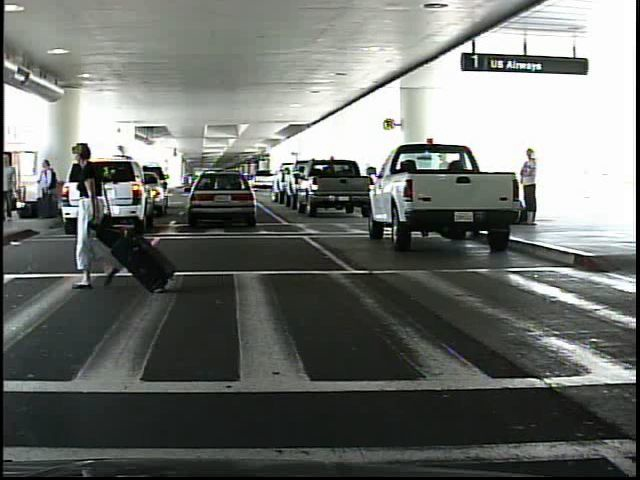person: (62, 143, 133, 292), (506, 151, 544, 227), (36, 158, 57, 221)
